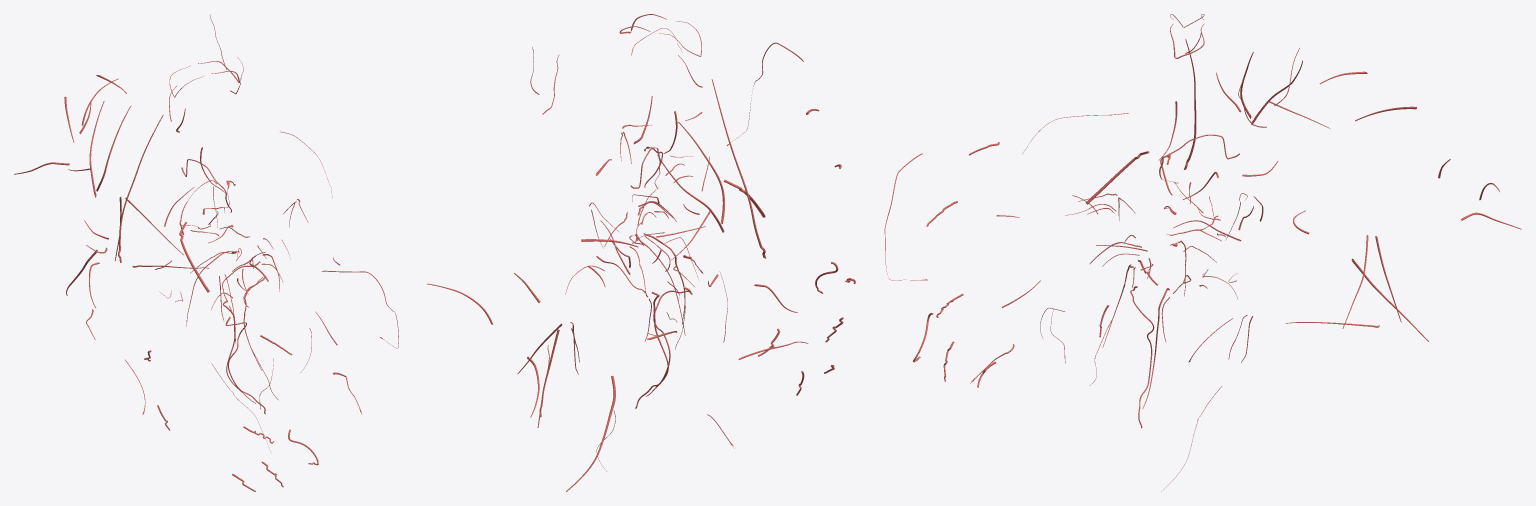
3 views of the same model, side by side, from view 1: azimuth 30°, elevation 25°; view 2: azimuth 150°, elevation 25°; view 3: azimuth 270°, elevation 25° (orthographic). The views are drawn at different scales.
Size of the model in its own units: 75.19 by 159 by 207.
